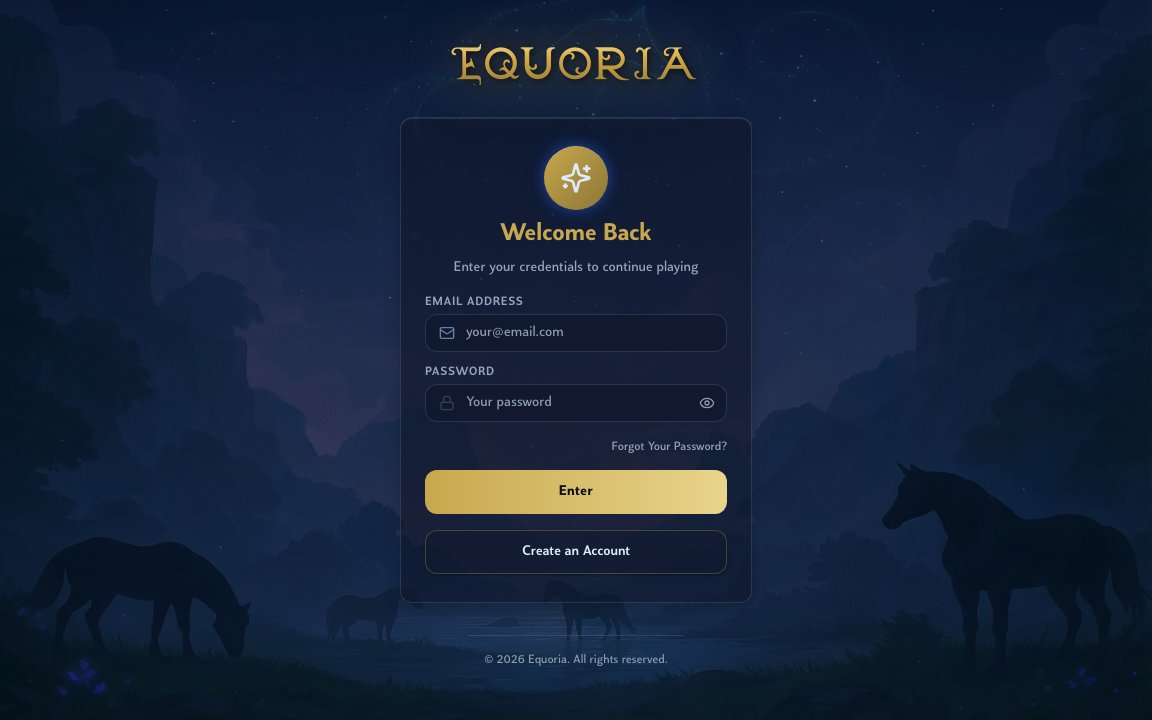
LoginPage — credential error copy › displays generic error for network failures
Type "john@example.com" into the field labelled "Email Address" at (576, 332), box [425, 314, 727, 352]
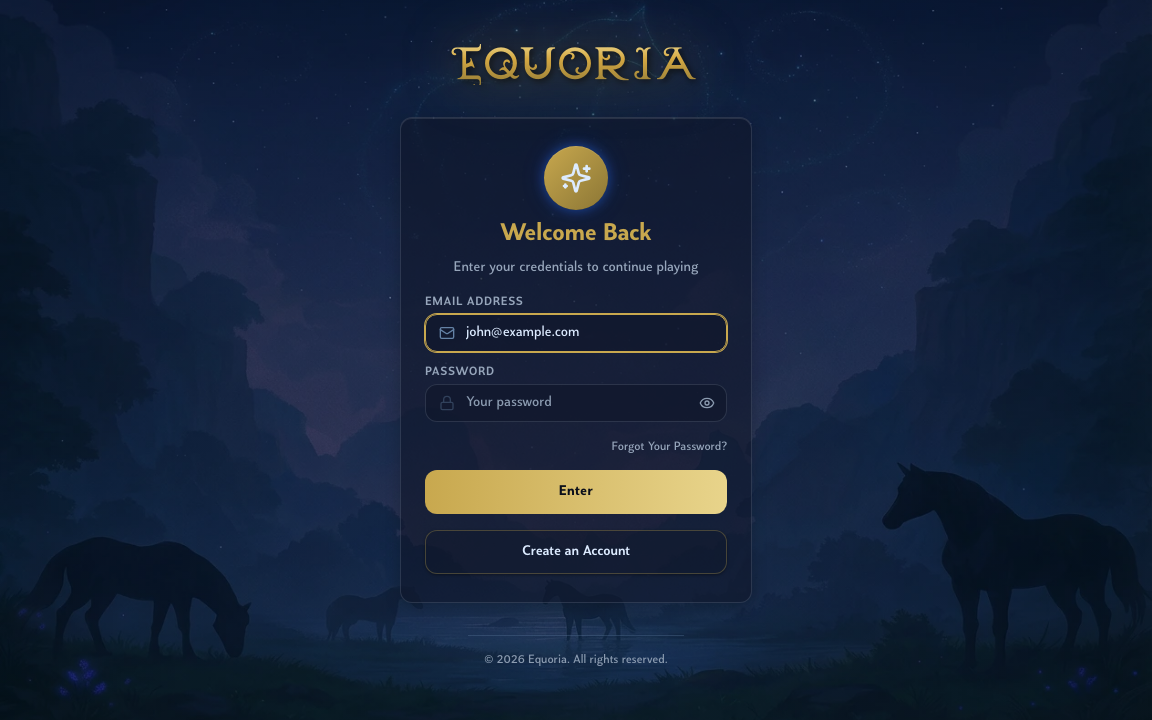
Type "password123" into the password field labelled "Password" at (576, 402), box [425, 384, 727, 422]
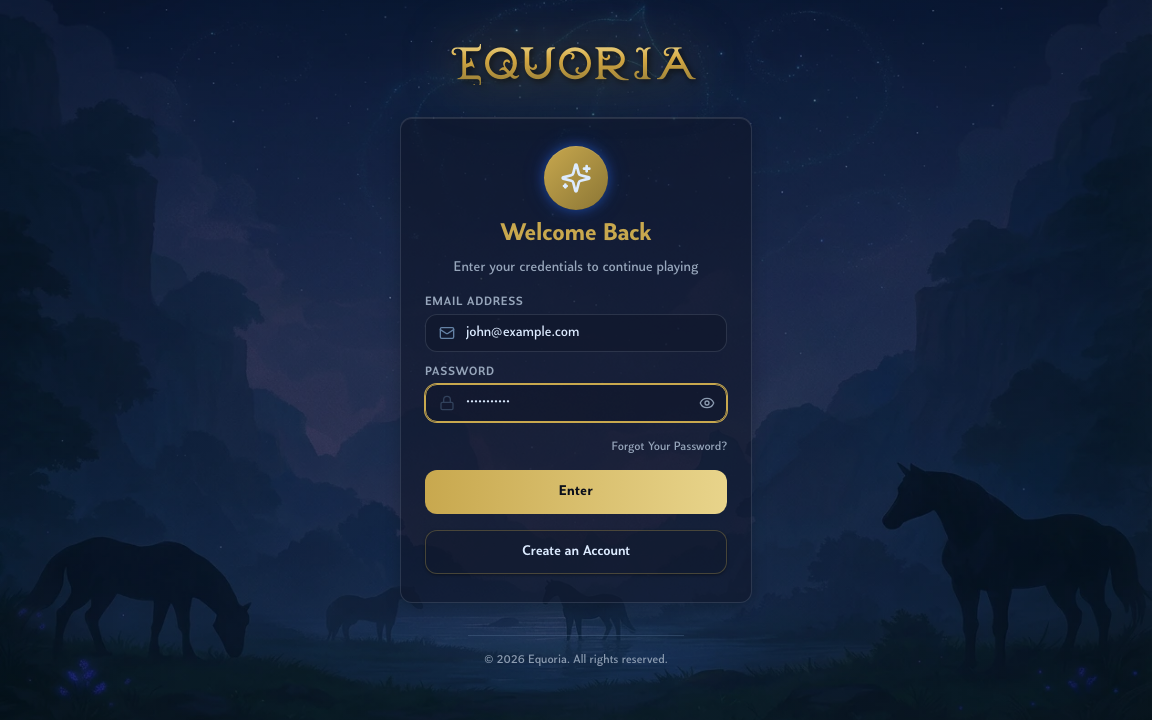
Click the button "Enter" at (576, 492), box [425, 470, 727, 514]
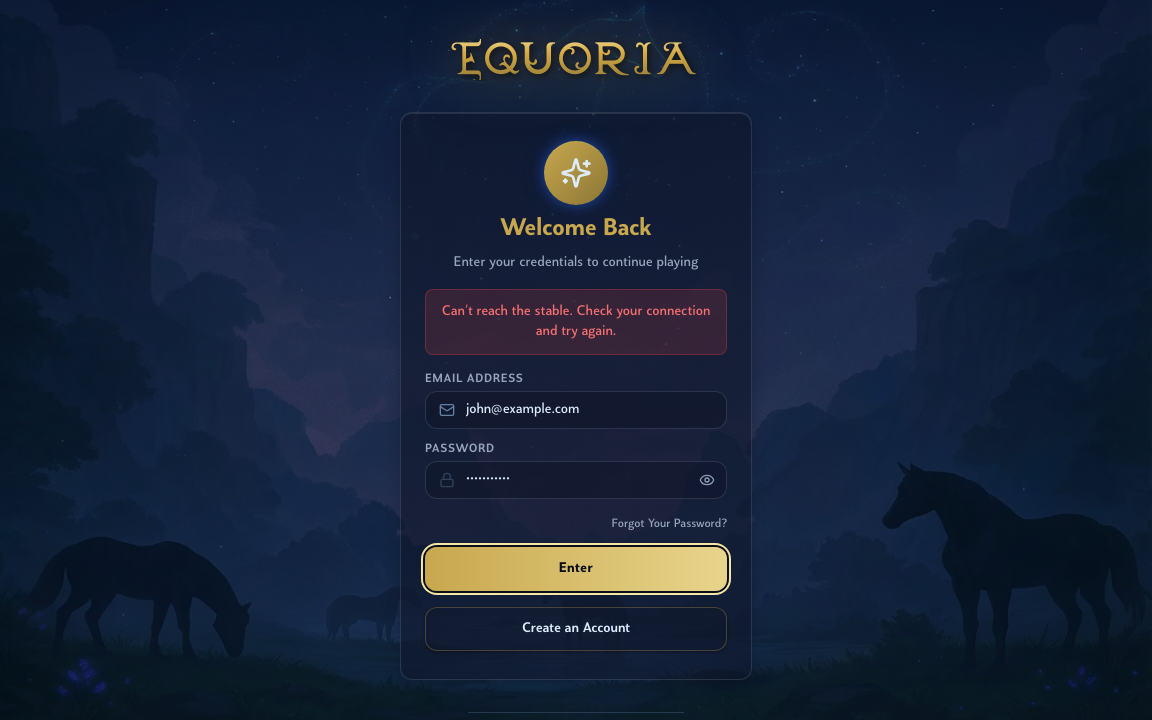
Check: the message "Can't reach the stable. Check your connection and try again." is shown, box [425, 289, 727, 355]
